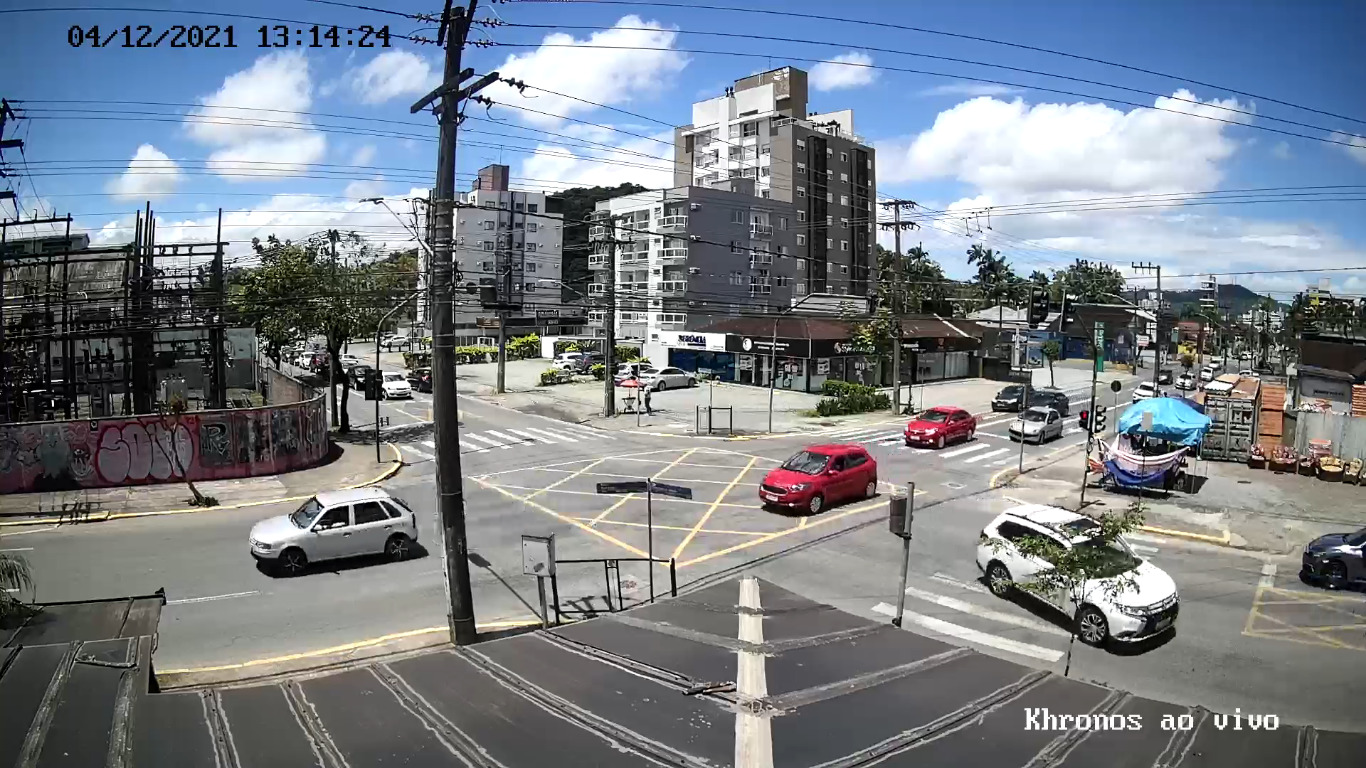car: (975, 502, 1181, 646), (248, 485, 418, 575), (758, 443, 879, 515)
